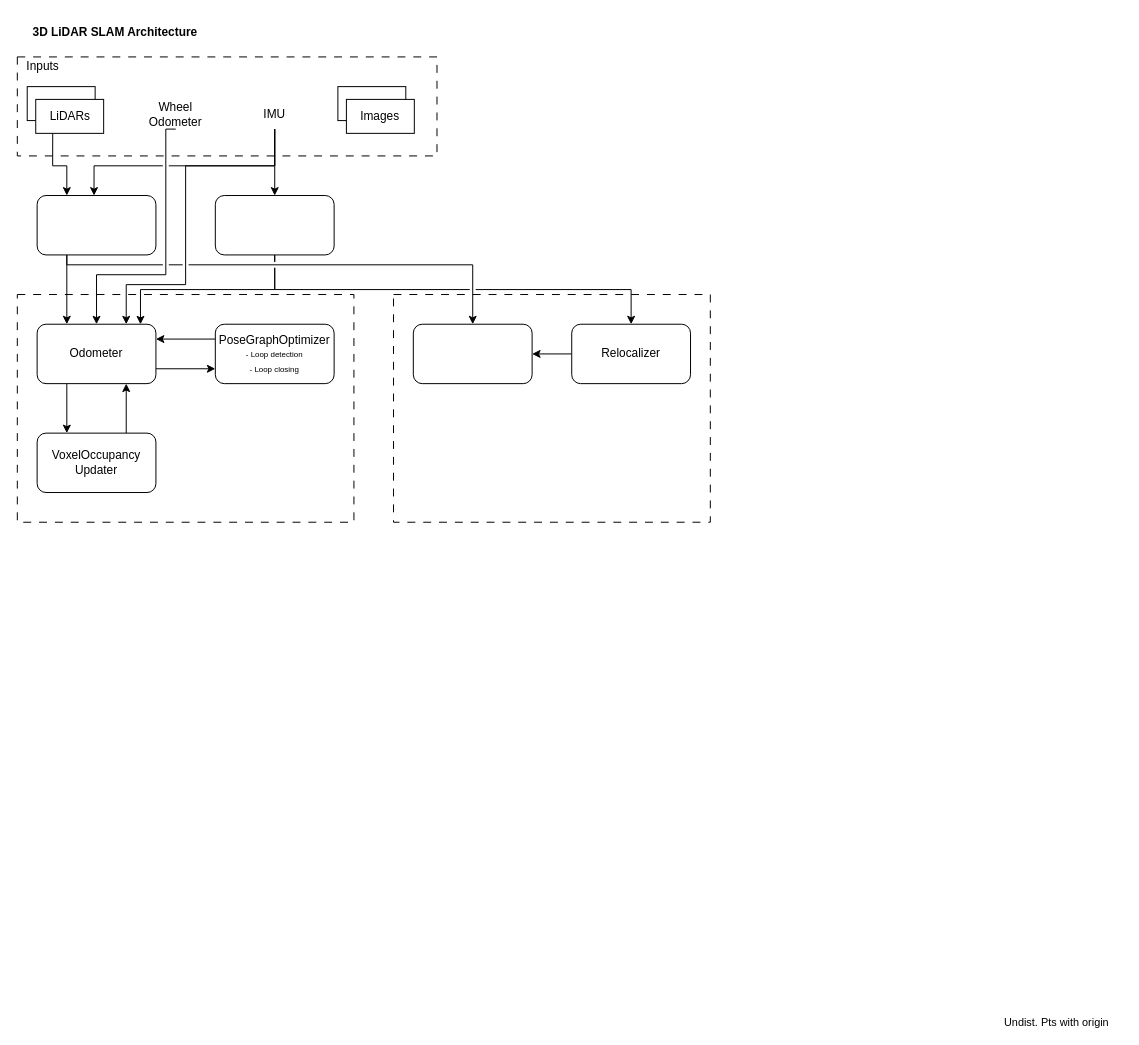
This 1139x1045 diagram has some shape labels left out. The centre of each missing label's shape, as x and y in pixels:
AttitudeEstimator: the point at 274,225
PointCloudUndistorter: the point at 96,225
PoseTracker: the point at 472,353
